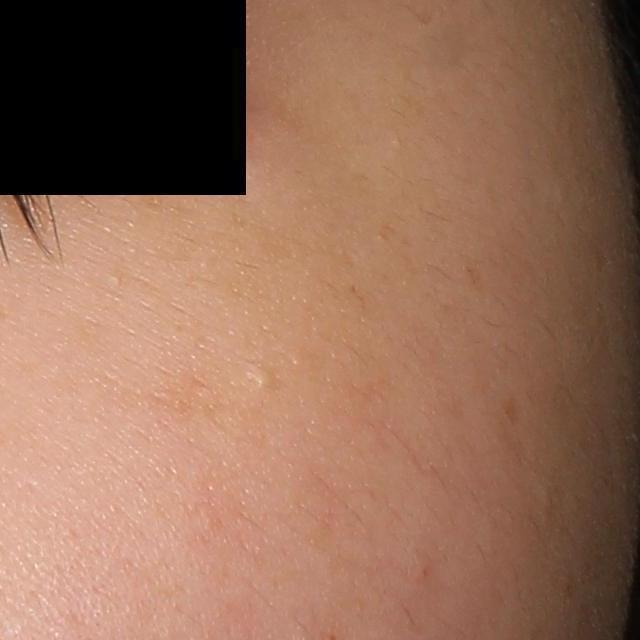comedo: (250, 367, 274, 390)
